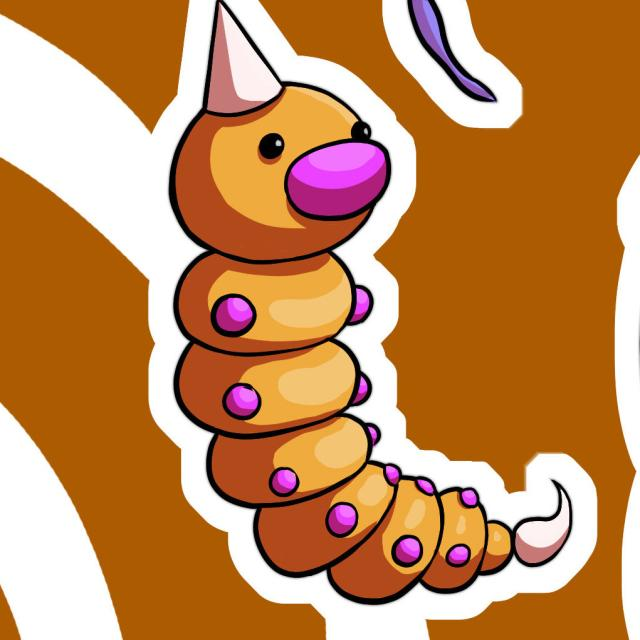Weedle: (170, 11, 444, 592)
